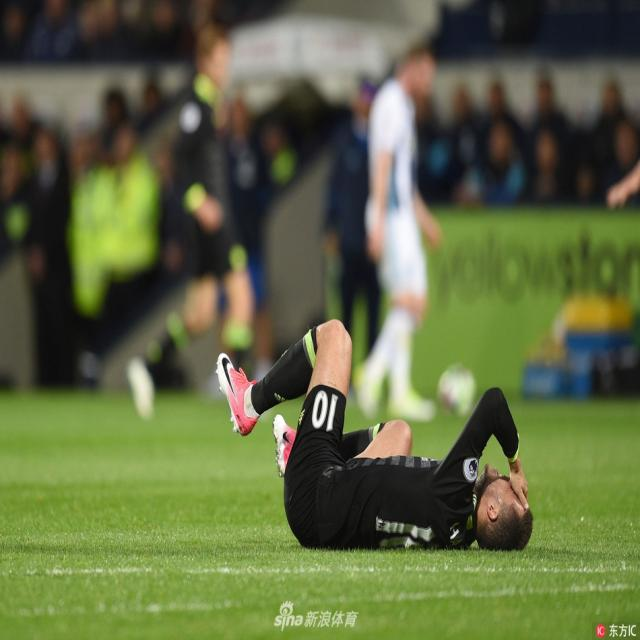10-: (10, 3, 639, 454)
down: (197, 303, 538, 558)
